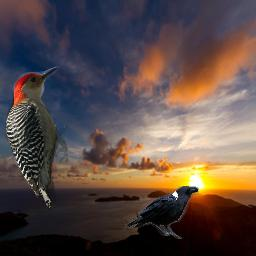Crow: (125, 186, 199, 239)
Woodpecker: (4, 66, 68, 209)
